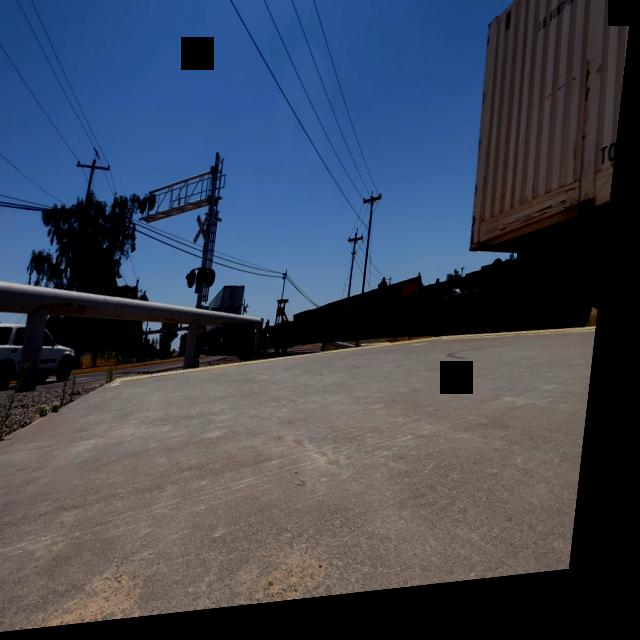container: (459, 0, 640, 291)
flatcar: (269, 280, 456, 369)
